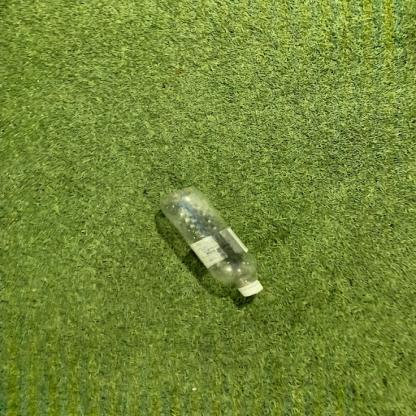trash: (154, 186, 264, 297)
